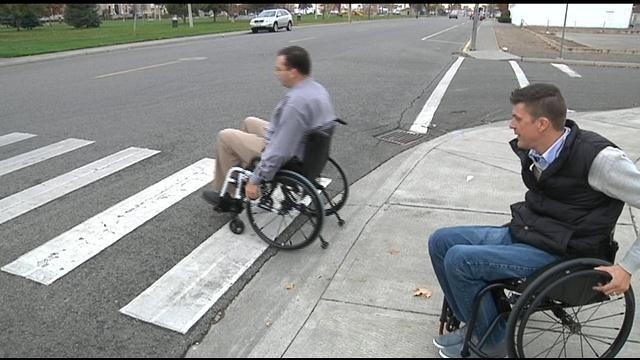wheelchair: (428, 84, 640, 360), (203, 46, 349, 251)
